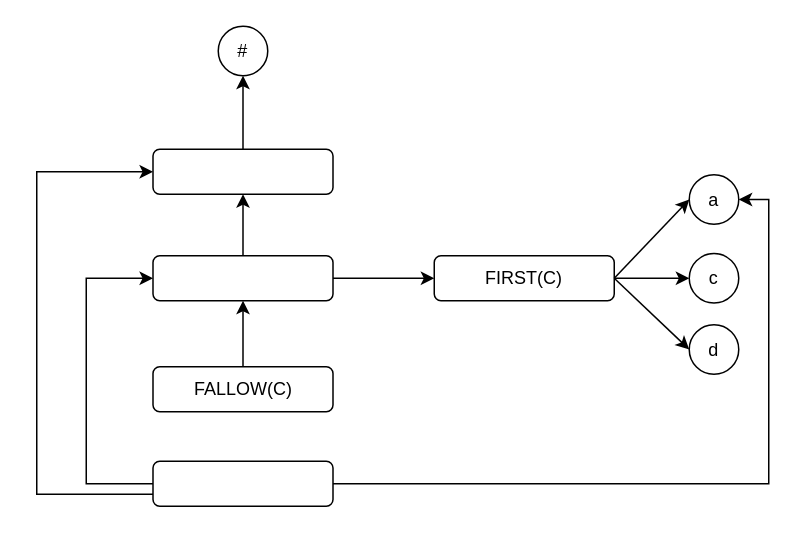
Image size: 807x533. Some labels were removed from this diagram. The shapes that lost their labels are listed below. From the top down, each one's centre as x and y in pixels, then its label:
(242,171): FALLOW(A)
(242,277): FALLOW(B)
(242,483): FALLOW(D)
